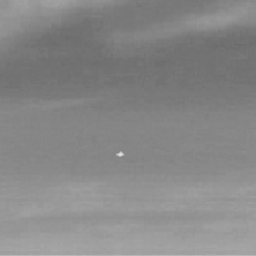Target: (115, 150, 125, 159)
